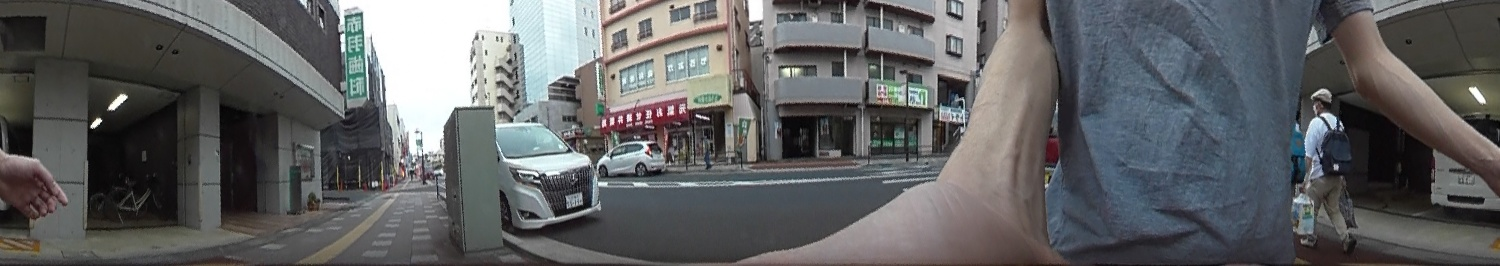difficult_person: (700, 131, 714, 169)
person: (1298, 86, 1352, 254)
